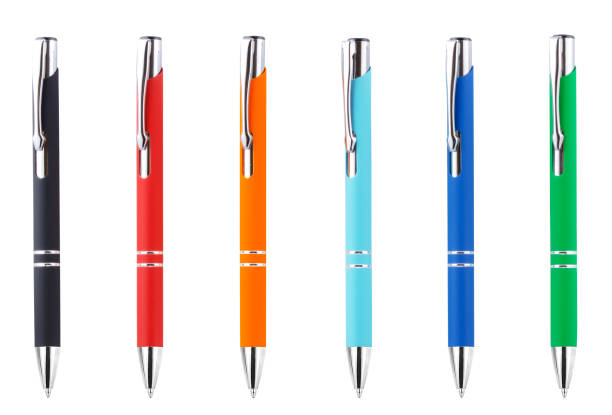pen: (120, 21, 193, 405), (326, 28, 394, 405), (537, 28, 596, 401), (23, 26, 79, 403), (231, 20, 286, 401), (438, 32, 494, 400)
